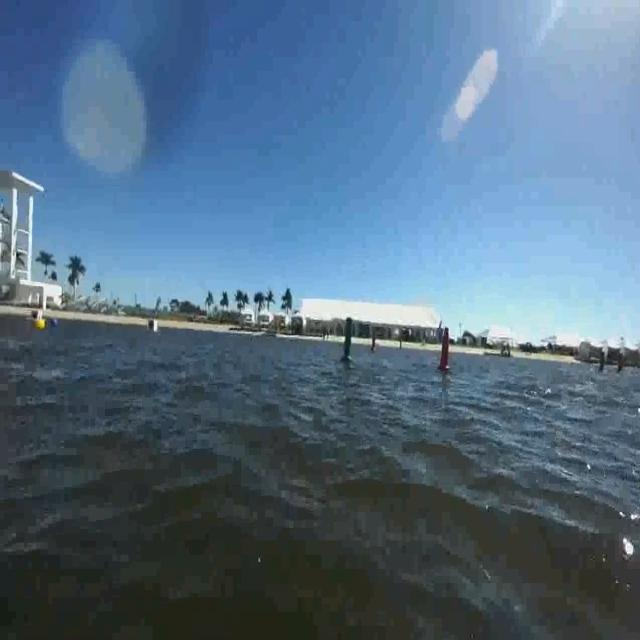green-column-buoy: (341, 316, 358, 364)
red-column-buoy: (438, 327, 454, 372)
yellow-duck: (36, 317, 46, 331)
